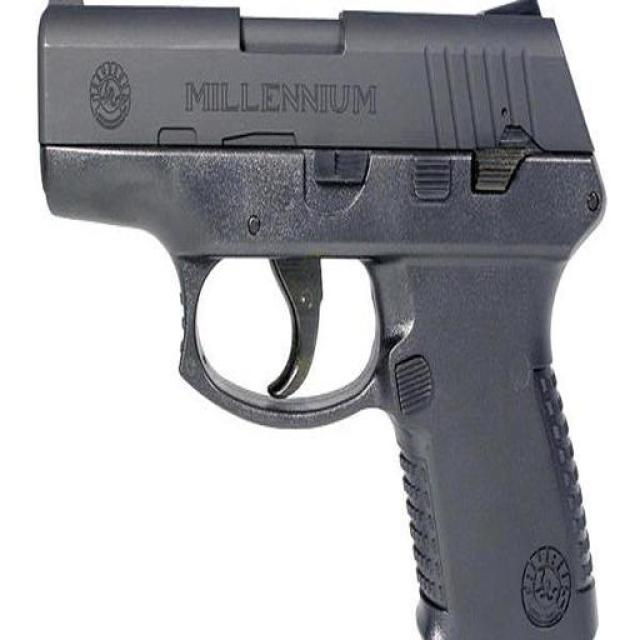pistol: (31, 2, 603, 640)
